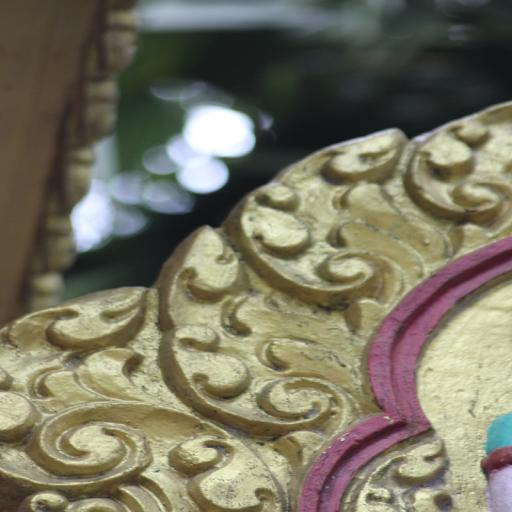lua: (17, 301, 241, 512), (168, 231, 366, 437), (256, 128, 438, 282), (408, 85, 512, 234)
